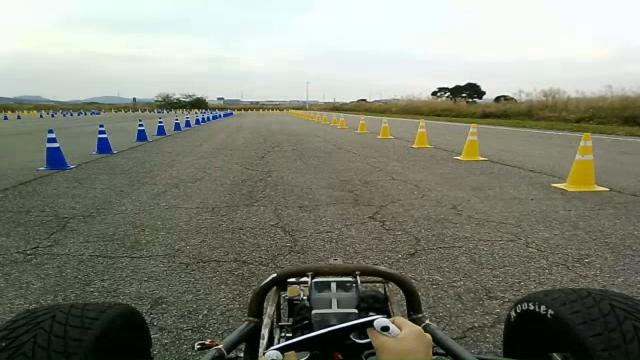blue cone: (35, 128, 77, 170), (90, 123, 118, 155), (130, 118, 152, 142), (153, 116, 168, 136), (191, 111, 204, 127), (172, 114, 183, 131), (184, 114, 192, 128), (204, 109, 212, 122), (212, 111, 222, 120), (223, 109, 233, 118)
yellow cone: (550, 132, 610, 192), (453, 123, 488, 161), (408, 118, 434, 148), (376, 116, 395, 139), (354, 115, 370, 133), (338, 112, 348, 131), (329, 115, 338, 126), (320, 114, 329, 124), (314, 113, 322, 122)
